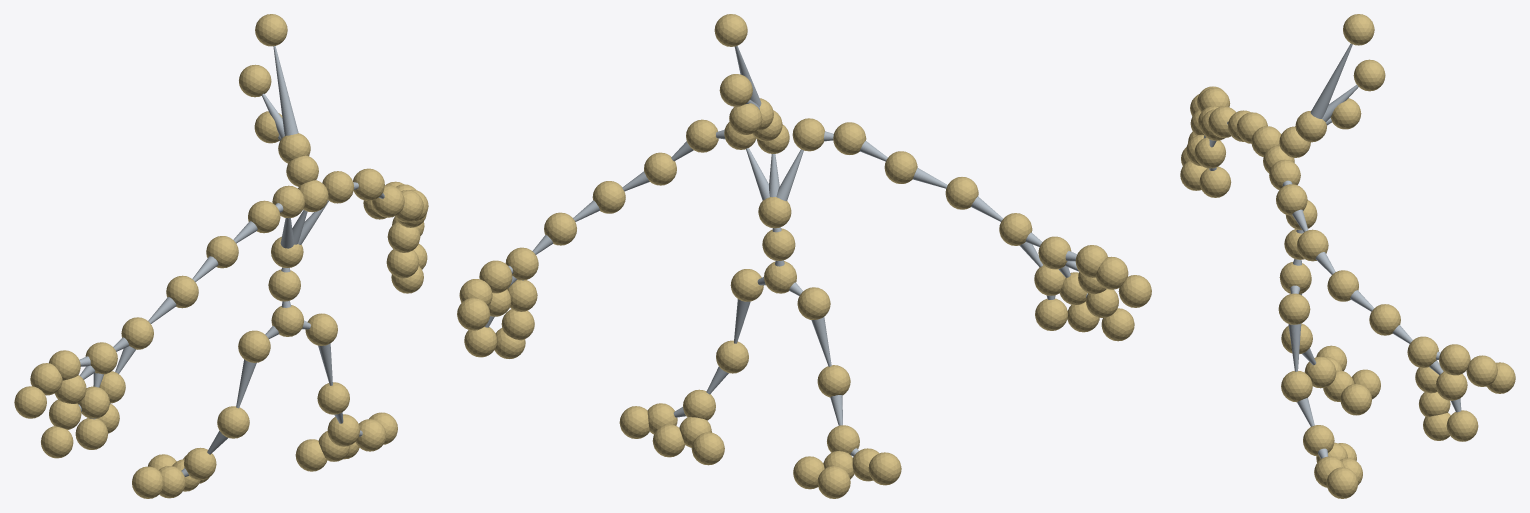
The model's file is skeleton.glb.
3 renders of one model, left to right at view 1: azimuth 30°, elevation 25°; view 2: azimuth 150°, elevation 25°; view 3: azimuth 270°, elevation 25°, orthographic. The views are drawn at different scales.
Visible parts, largest first — view 1: world; view 2: world; view 3: world.
Boxes of the visible parts, x1,y1,x2,y2 form: world: [14, 14, 428, 498]; world: [457, 14, 1151, 498]; world: [1180, 14, 1515, 498].
Size of the model in its own units: 1.03 by 0.8285 by 0.5691.
